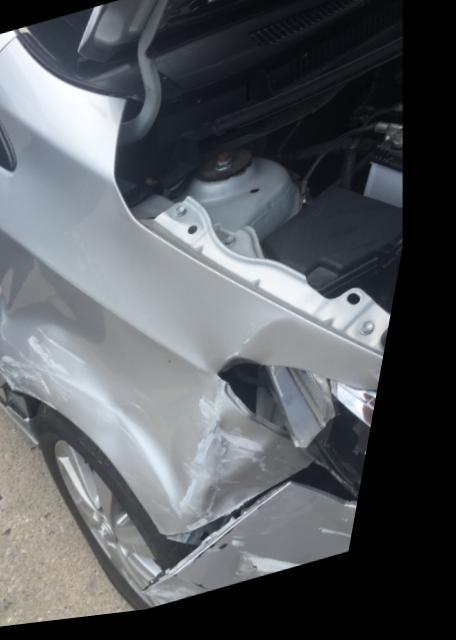dent: (9, 261, 288, 537)
dislocated part: (160, 468, 381, 613)
lamp broken: (288, 379, 393, 511)
scratch: (174, 531, 374, 612)
